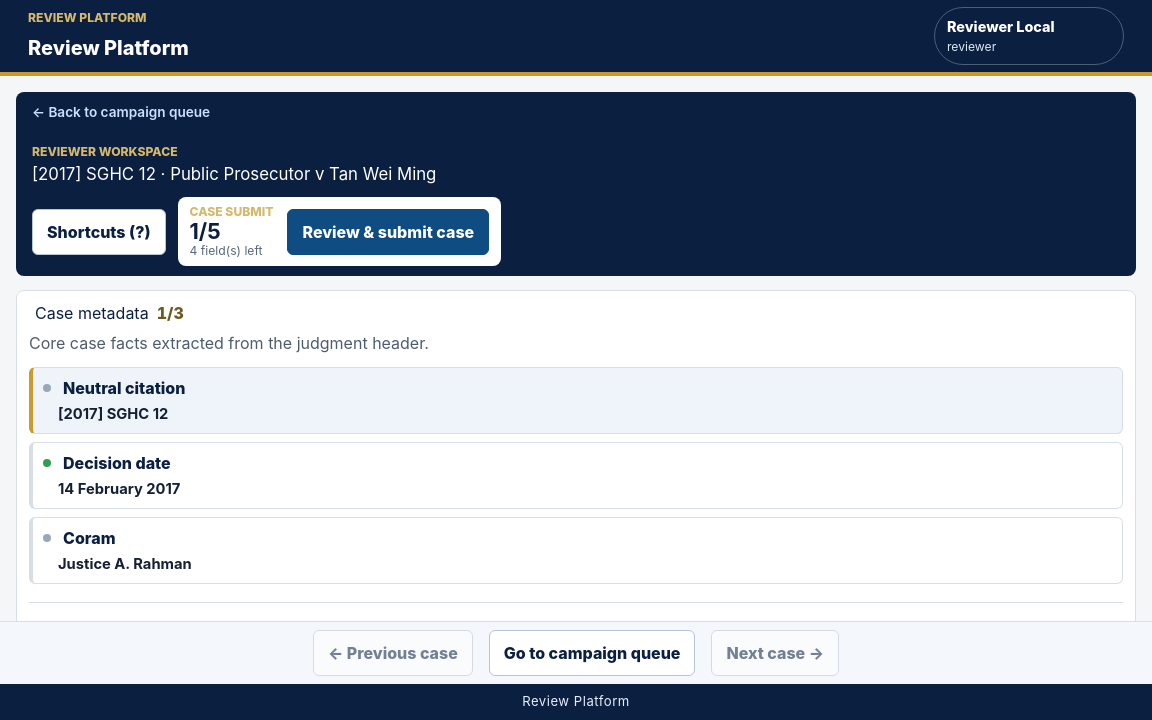
Test: reviewer workflows › hydrates a previously submitted field's green dot and corrections from the server on load
Expected: the heading "[2017] SGHC 12 · Public Prosecutor v Tan Wei Ming" is shown, [32, 164, 436, 184]
Expected: the element with class "status-dot-submitted" is shown, [43, 459, 51, 467]
Click the button "Decision date 14 February 2017" at {"x": 117, "y": 463}, box [29, 442, 1123, 509]
(page scrolled)
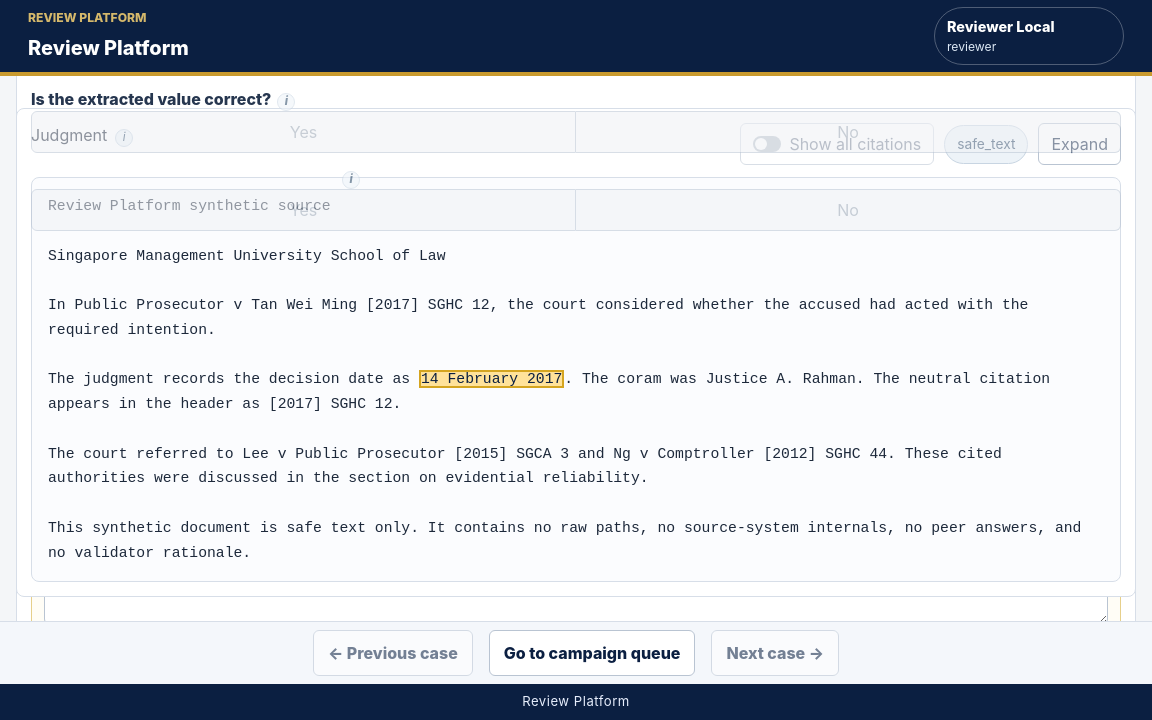
Expected: the field showing "17 February 2017" is shown, [44, 416, 1108, 462]
Expected: the text box showing "date was misread from the header" is shown, [44, 507, 1108, 621]
Expected: the dropdown shows "Value is incorrect", [44, 327, 1108, 371]
